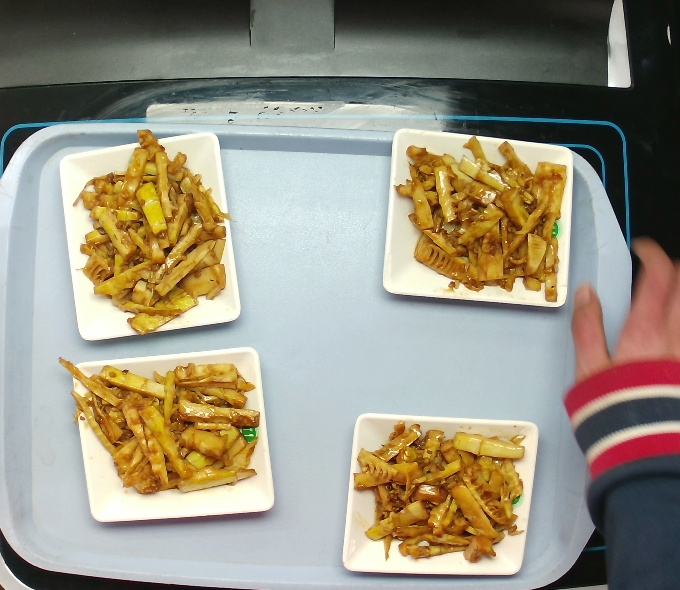wcq-QingChaoChunSun: (63, 119, 241, 345), (68, 347, 258, 501), (347, 414, 529, 571), (394, 136, 569, 299)
